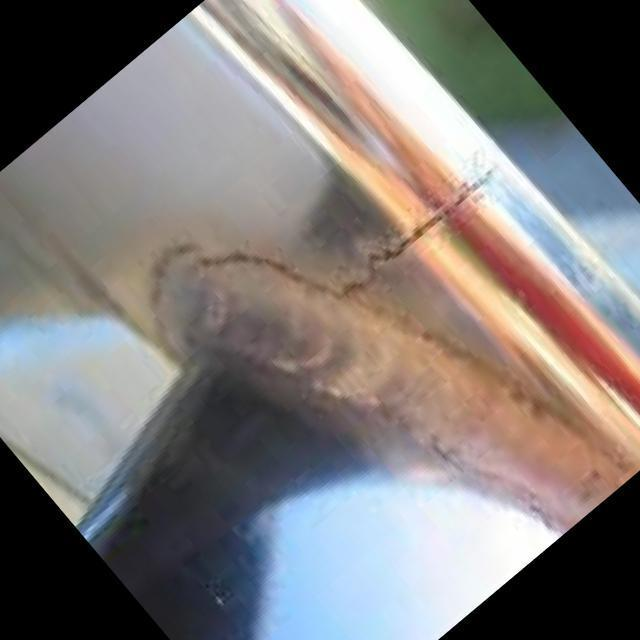defect: (139, 156, 505, 375)
